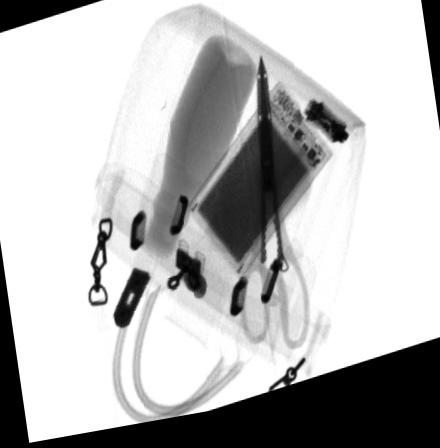Powerbank: (186, 88, 334, 288)
Scissors: (237, 66, 309, 362)
